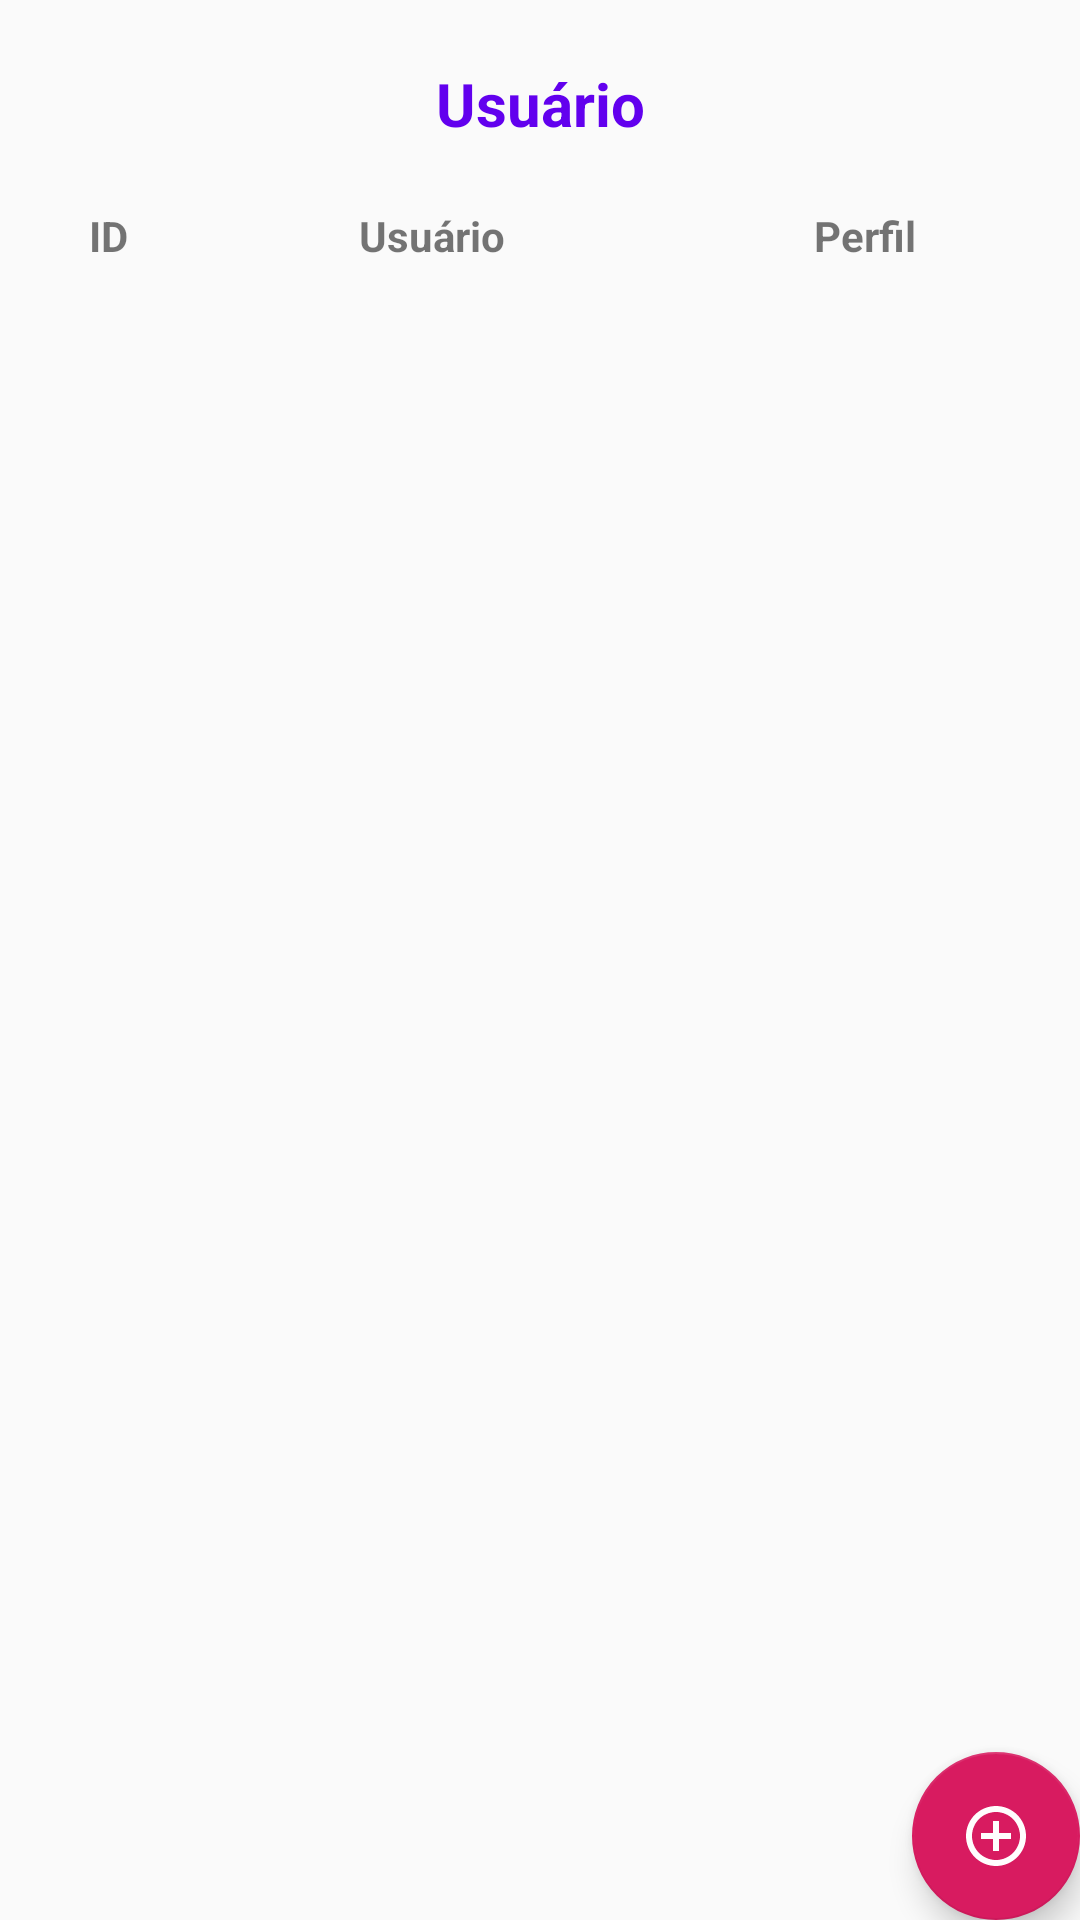

Icons on this 1080 x 1920 Android screen, each with its box as (x1, y1, x2, y2):
add circle: (912, 1752, 1080, 1920)
